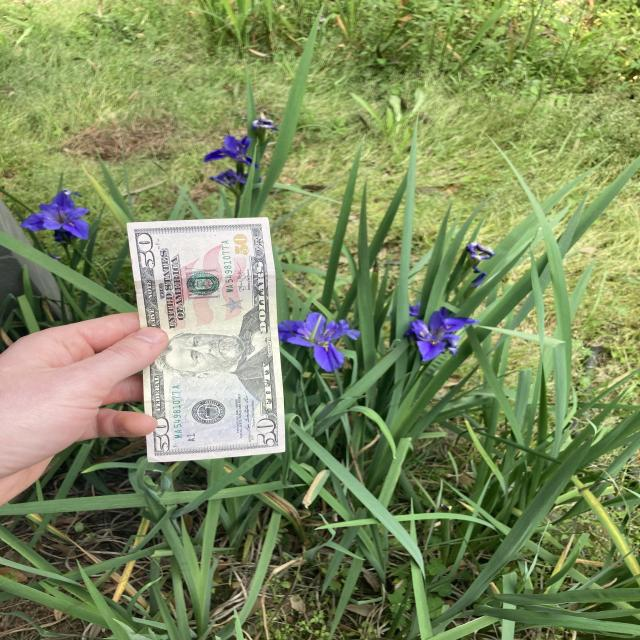fifty: (125, 210, 290, 463)
